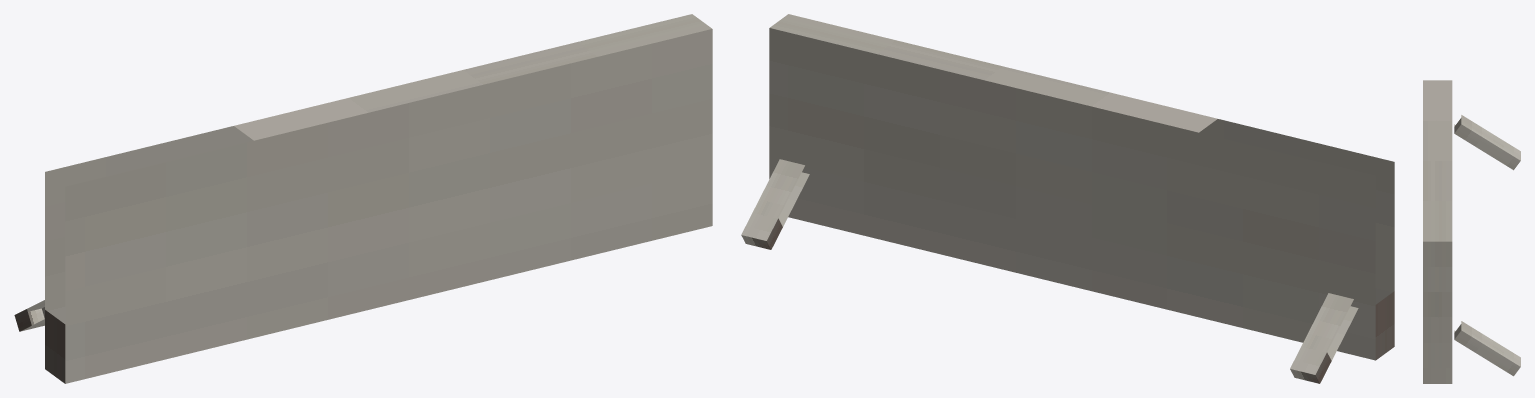
The picture shows the model from 3 angles, left to right: view 1: azimuth 30°, elevation 25°; view 2: azimuth 150°, elevation 25°; view 3: azimuth 270°, elevation 25°; orthographic projection. The views are drawn at different scales.
Size of the model in its own units: 1.02 by 0.2973 by 0.1851.
